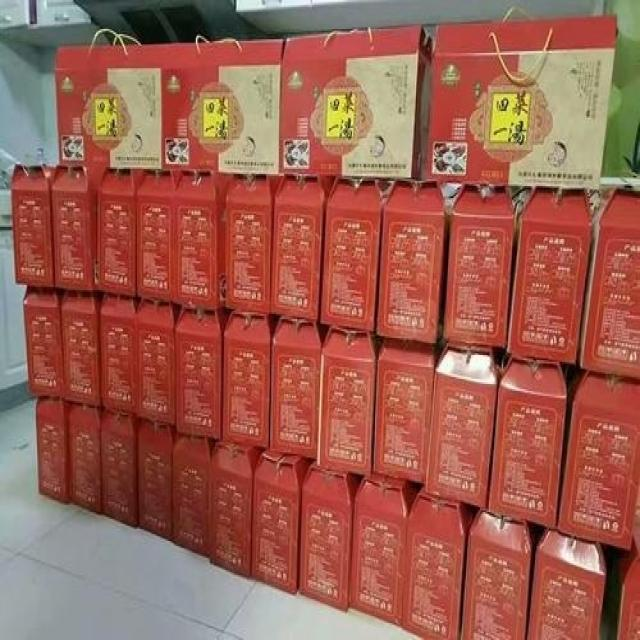box: (431, 12, 617, 191), (279, 26, 434, 176), (159, 38, 287, 176), (507, 187, 595, 364), (489, 347, 574, 529), (557, 362, 639, 550), (54, 41, 161, 169), (442, 182, 519, 351), (425, 340, 502, 508), (374, 179, 449, 342), (581, 188, 639, 377), (399, 483, 469, 637), (321, 175, 388, 334), (460, 502, 536, 638), (372, 331, 439, 484), (350, 469, 414, 625), (297, 456, 356, 614), (249, 445, 309, 595), (321, 323, 378, 476), (529, 526, 606, 636), (274, 174, 330, 323), (176, 169, 236, 306), (229, 176, 285, 313), (271, 313, 321, 456), (175, 298, 226, 438), (221, 307, 272, 447), (52, 166, 109, 290), (208, 438, 258, 579), (97, 167, 149, 297), (138, 168, 184, 299), (12, 164, 56, 289), (137, 294, 177, 428), (97, 293, 139, 418), (603, 497, 639, 635), (100, 404, 139, 529), (174, 429, 213, 554), (63, 400, 103, 511), (138, 417, 174, 540), (61, 290, 99, 405), (24, 284, 62, 397), (34, 395, 67, 504)
